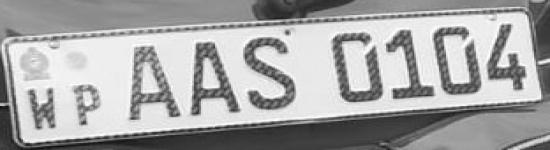0: (326, 26, 385, 104), (434, 21, 485, 98)
1: (383, 23, 435, 102)
4: (483, 20, 533, 96)
A: (118, 41, 186, 122), (185, 38, 243, 117)
P: (70, 81, 109, 129)
S: (241, 32, 312, 116)
W: (18, 85, 68, 135)
